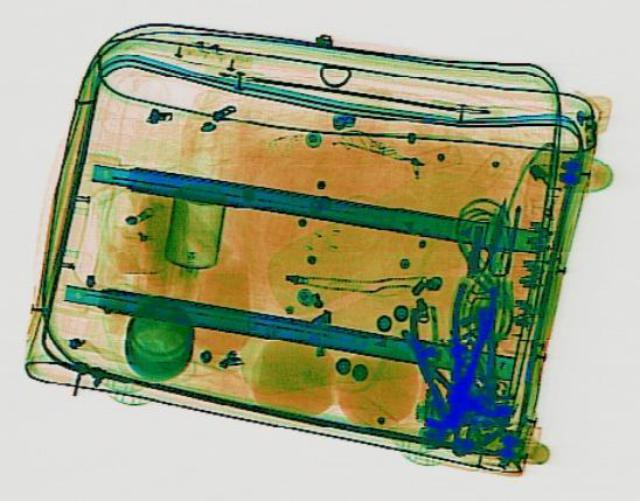Pliers: (434, 279, 502, 398)
